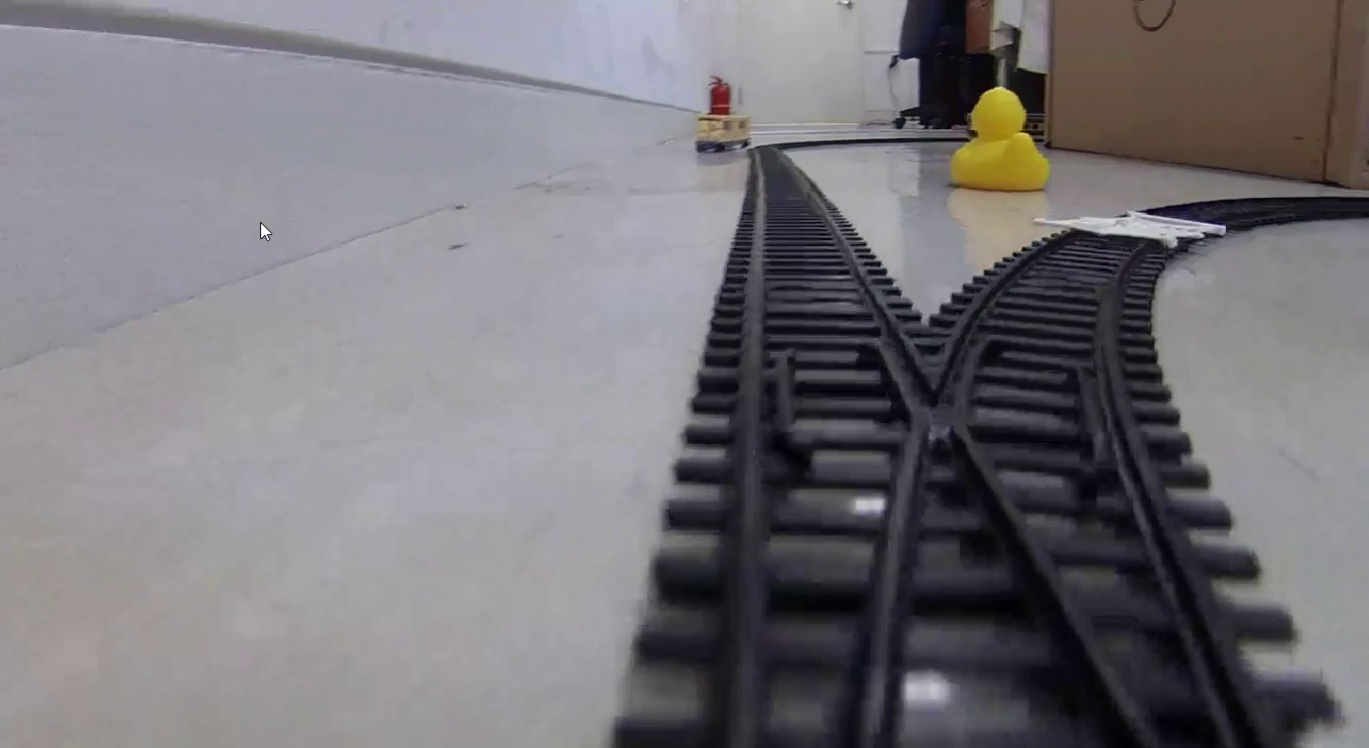web: (1036, 210, 1226, 251)
